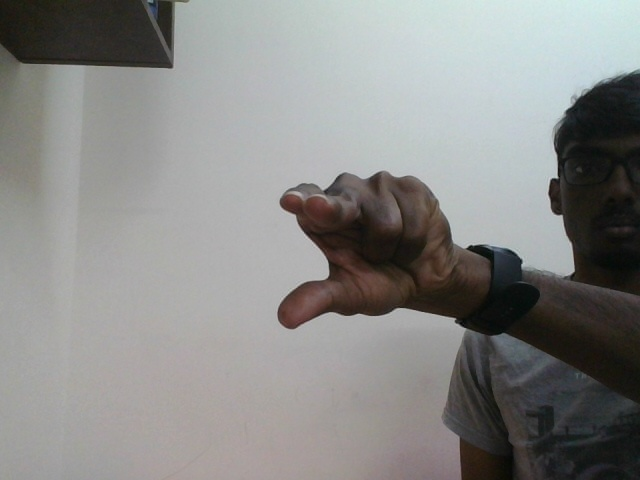No: (276, 183, 393, 331)
